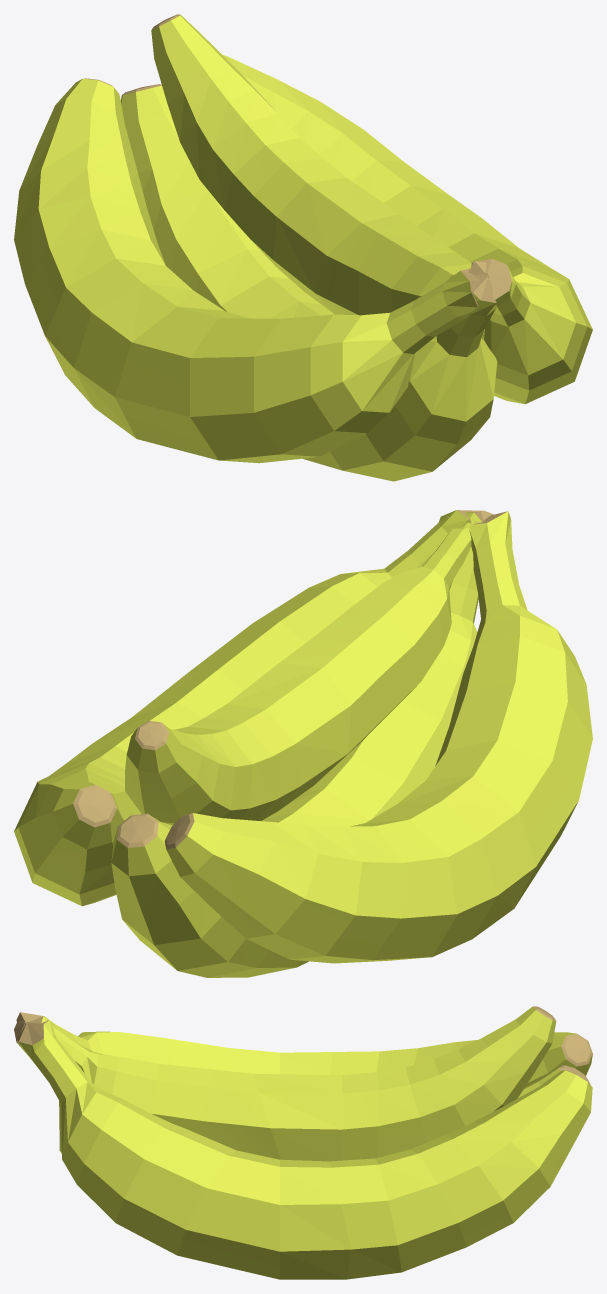
The model's file is bananas.fbx.
3 views of the same model, one above another, from view 1: azimuth 30°, elevation 25°; view 2: azimuth 150°, elevation 25°; view 3: azimuth 270°, elevation 25° (orthographic). The views are drawn at different scales.
Visible parts, largest first — view 1: Banan.004; view 2: Banan.004; view 3: Banan.004.
Boxes of the visible parts, <box> form: Banan.004: <box>14,14,592,481</box>; Banan.004: <box>14,510,592,977</box>; Banan.004: <box>14,1006,592,1279</box>.
Size of the model in its own units: 73.1 by 53.9 by 110.
